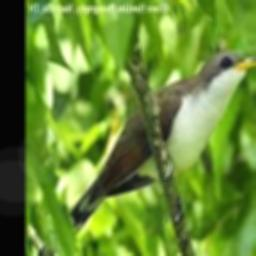Cuckoo: (38, 51, 256, 256)
